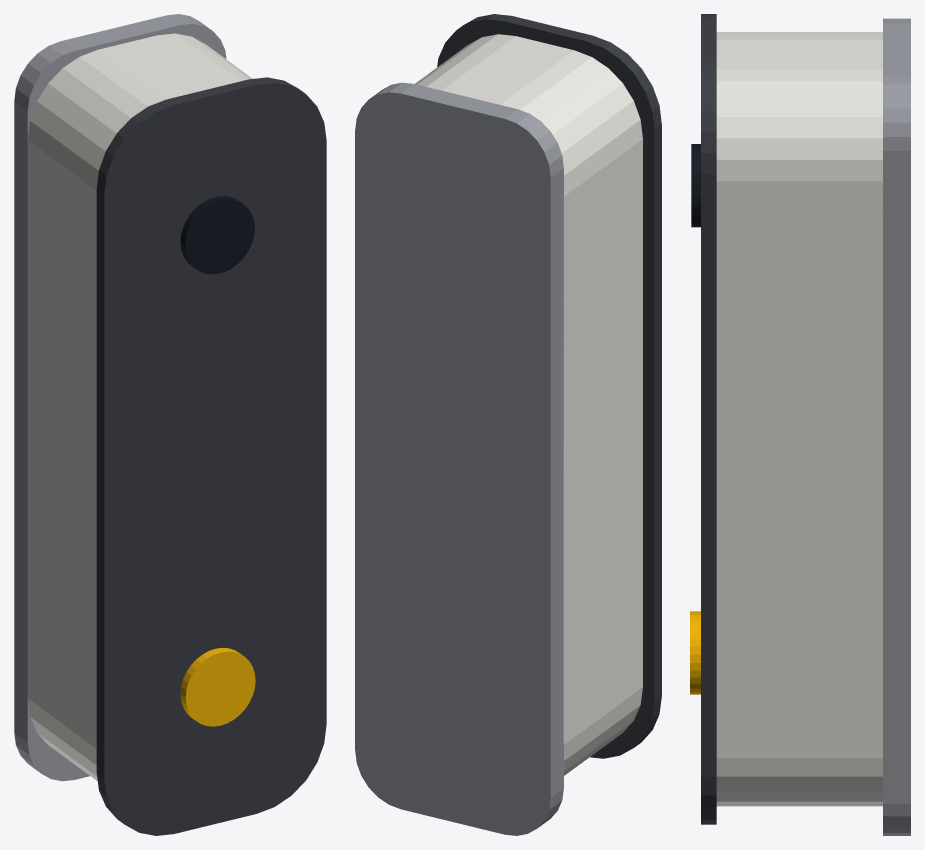
File: device.canary-vision-doorbell.glb
3 views of the same model, side by side, from view 1: azimuth 30°, elevation 25°; view 2: azimuth 150°, elevation 25°; view 3: azimuth 270°, elevation 25° (orthographic). The views are drawn at different scales.
Bounding box in the file's own units: 0.0382 × 0.1208 × 0.0318.
